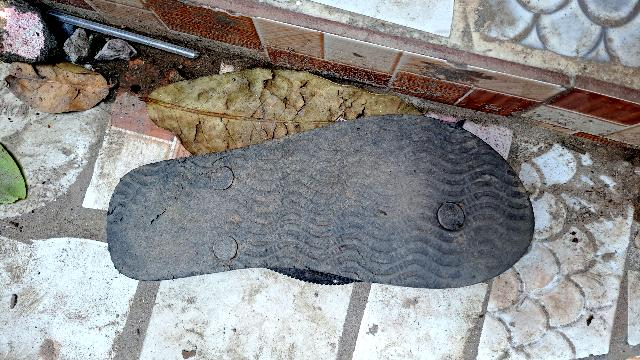sandal: (89, 115, 555, 318)
